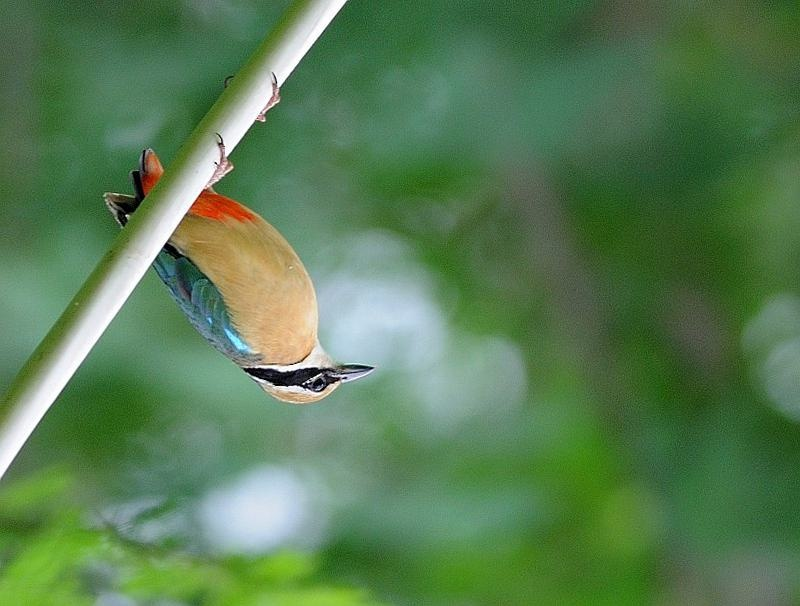pitta: (111, 81, 370, 402)
